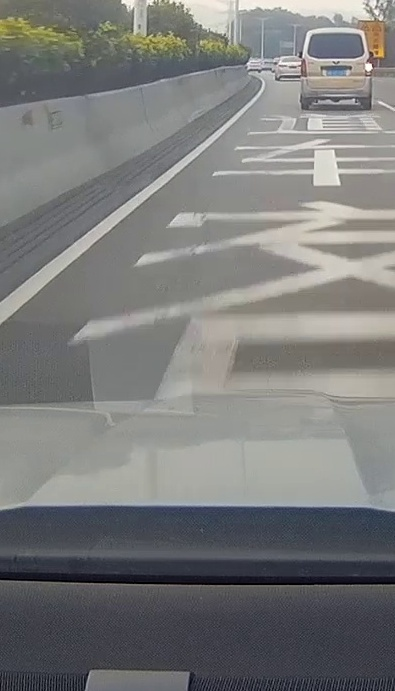L_light: (301, 59, 307, 77)
R_light: (365, 57, 372, 76)
T_light: (330, 31, 340, 34)
day-right: (300, 27, 373, 110)
